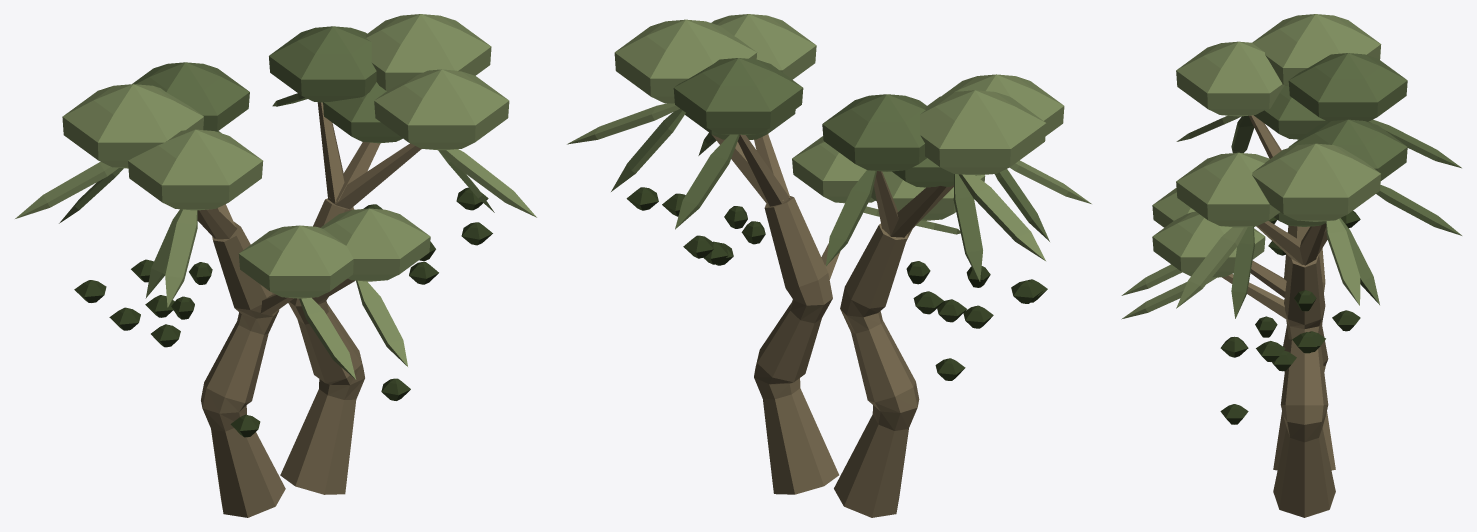
The model's file is olive_tree.gltf.
The picture shows the model from 3 angles, left to right: view 1: azimuth 30°, elevation 25°; view 2: azimuth 150°, elevation 25°; view 3: azimuth 270°, elevation 25°; orthographic projection. The views are drawn at different scales.
Parts seen in each view (by area): view 1: olive_tree; view 2: olive_tree; view 3: olive_tree.
Boxes of the visible parts, left/top/right/bottom form: olive_tree: left=15, top=14, right=536, bottom=517; olive_tree: left=567, top=14, right=1091, bottom=517; olive_tree: left=1121, top=14, right=1461, bottom=517.
Size of the model in its own units: 2.99 by 2.67 by 2.01.
